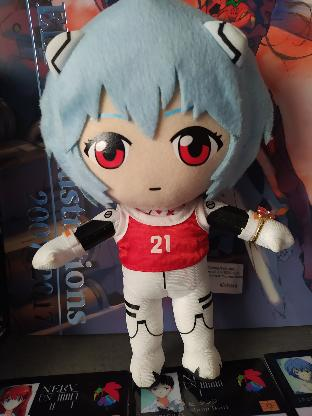rei-plush: (29, 0, 297, 384)
